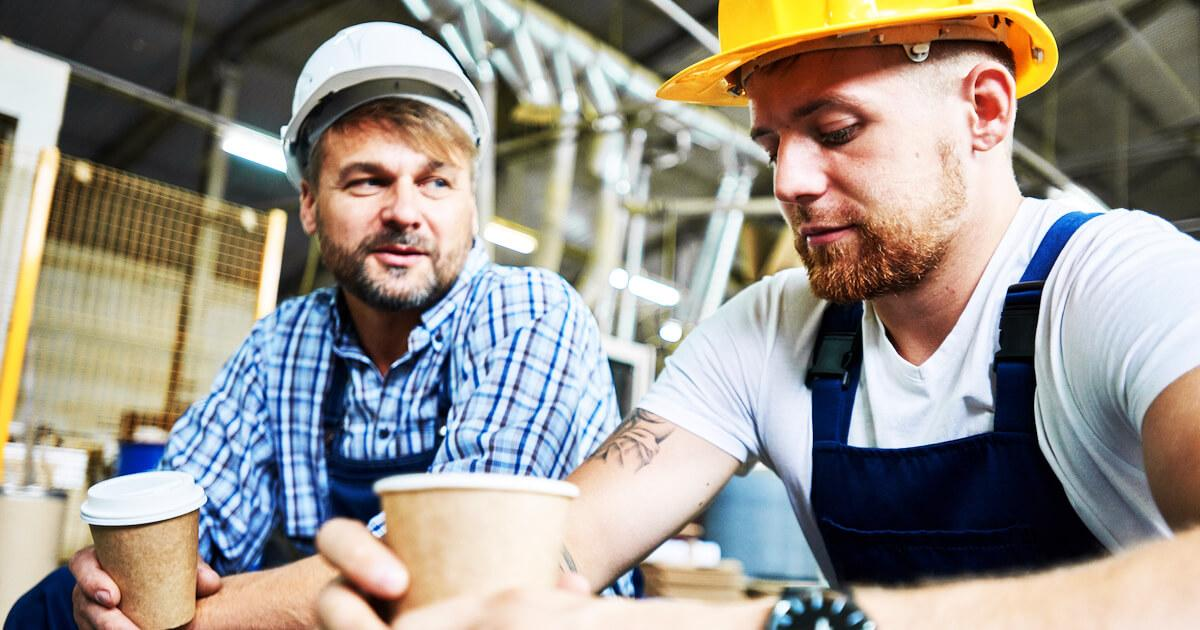helmet: (648, 1, 1063, 106), (285, 23, 491, 146)
